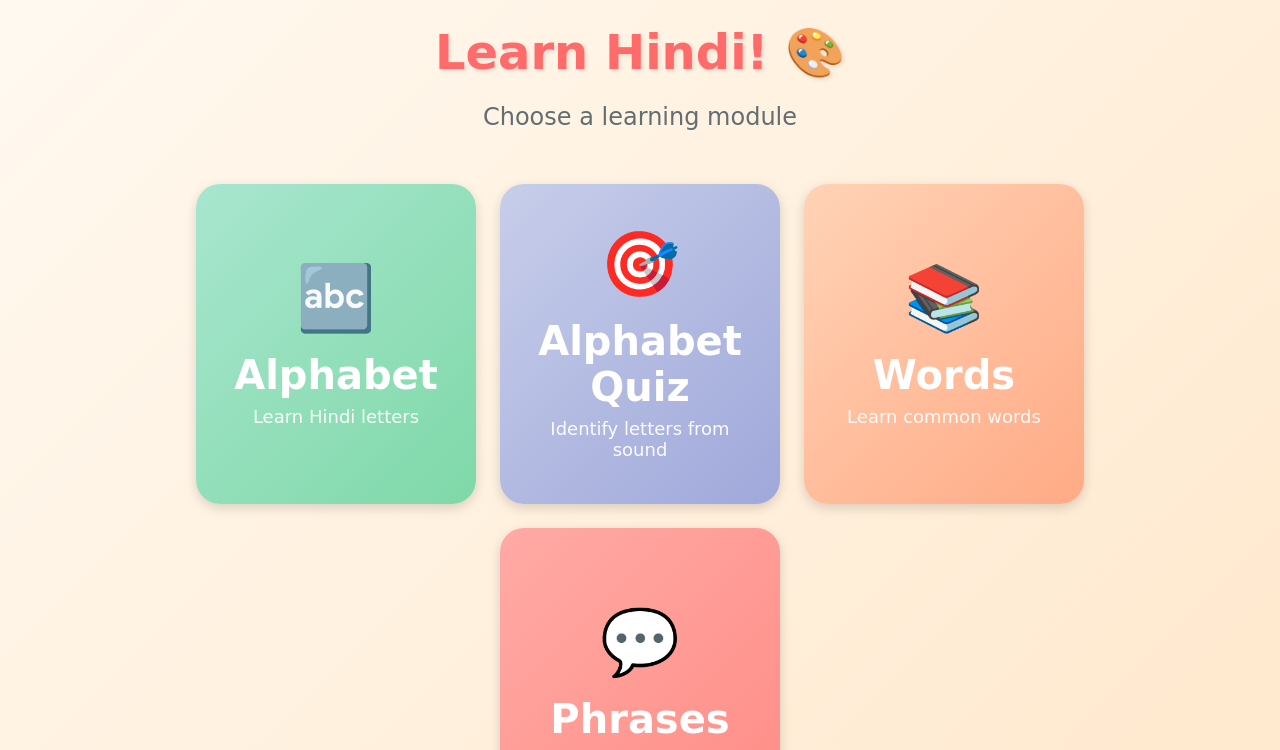
Offline Functionality and Asset Loading › Application Flow › should navigate back to main menu from modules
Note: Navigate to alphabet
Click the button with aria-label "Learn the Hindi Alphabet" at coordinates (336, 298), box [196, 184, 476, 504]
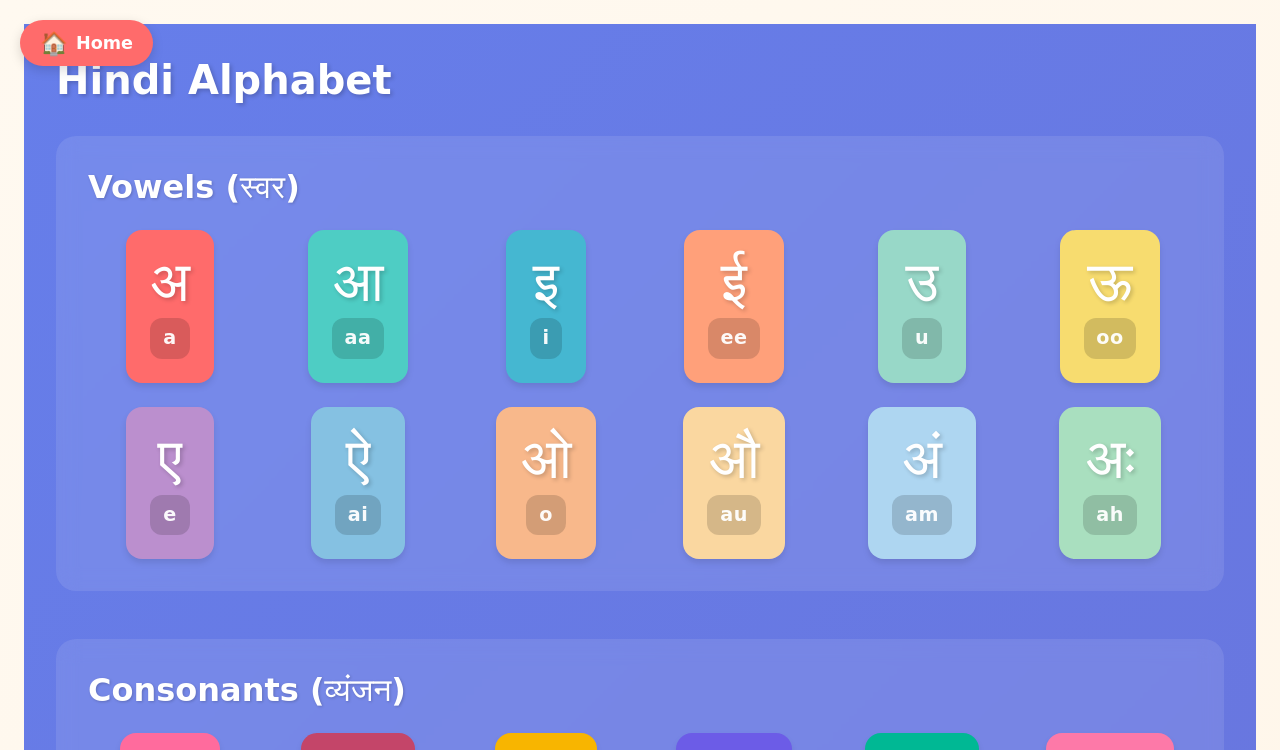
Note: Click back button
Click the button with aria-label "back" at coordinates (86, 43), box [20, 20, 153, 66]
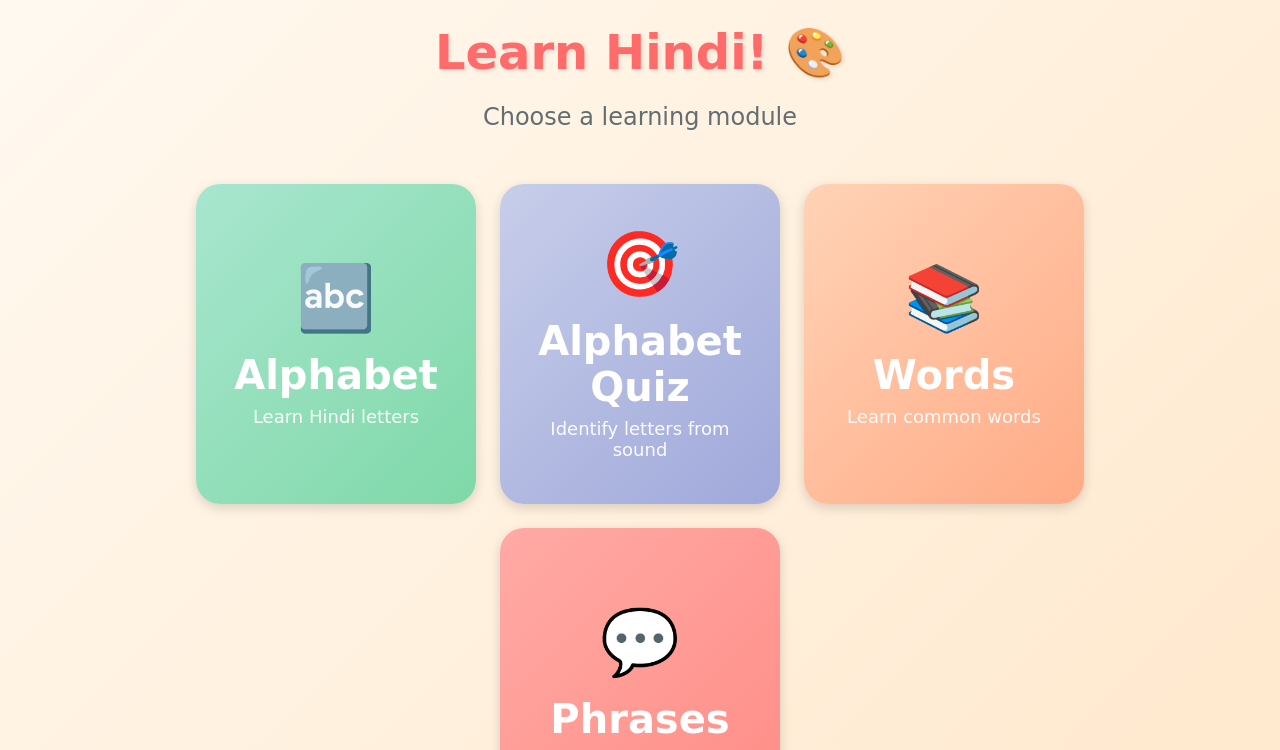
Result: the heading "Learn Hindi! 🎨" is shown at [435, 24, 845, 80]
